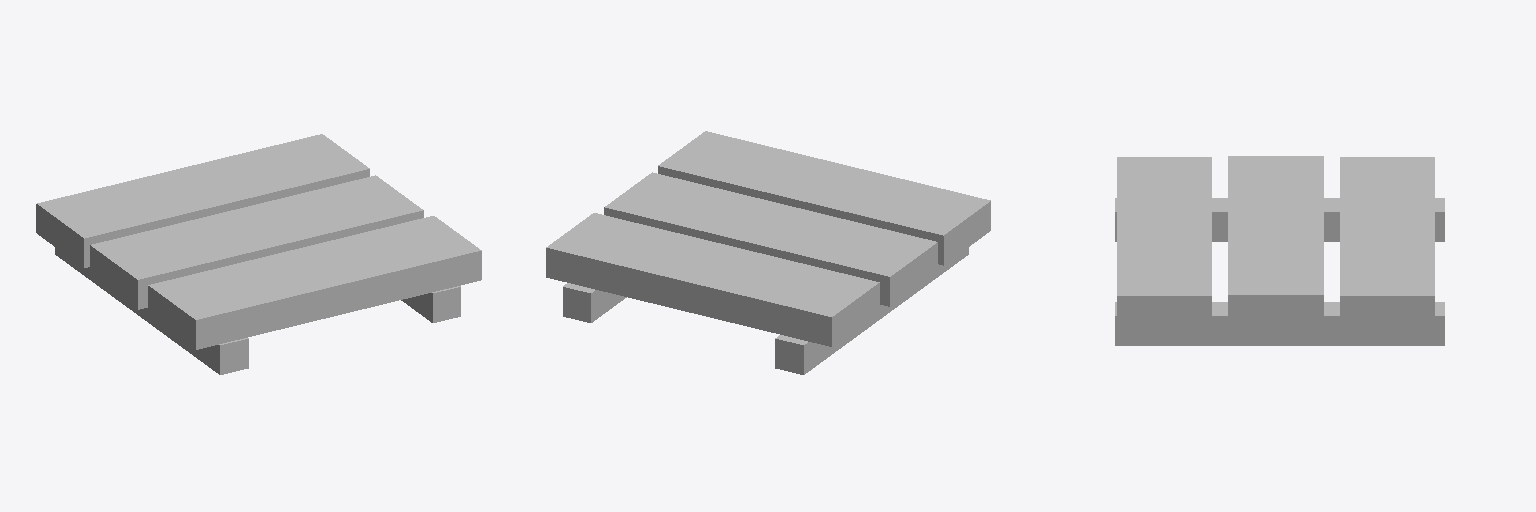
The model's file is 00_PL_Track_Corner_Middle.obj.
3 renders of one model, left to right at view 1: azimuth 30°, elevation 25°; view 2: azimuth 150°, elevation 25°; view 3: azimuth 270°, elevation 25°, orthographic.
Visible parts, largest first — view 1: pCube658; view 2: pCube658; view 3: pCube658.
Boxes of the visible parts, box(x1,y1,x2,y2) form: pCube658: box(36, 134, 481, 374); pCube658: box(546, 131, 990, 374); pCube658: box(1115, 156, 1444, 345).
Size of the model in its own units: 302 by 60.42 by 300.